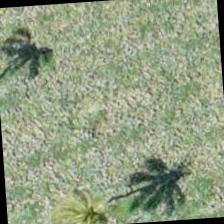Kelapa_Sawit: (50, 155, 146, 223)
